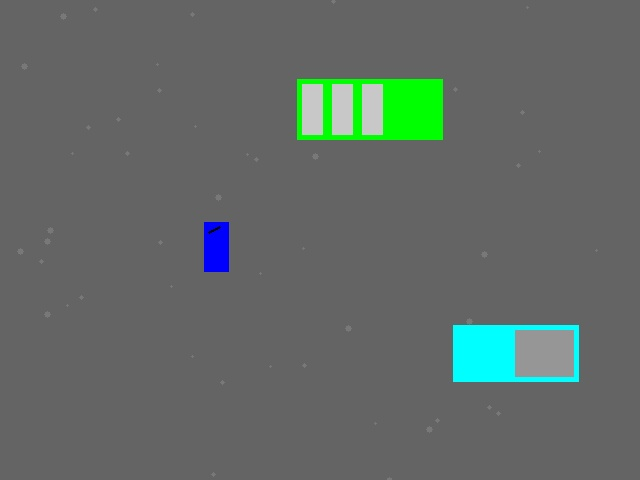bus: (297, 79, 442, 139)
motorcycle: (204, 222, 228, 271)
truck: (453, 325, 578, 381)
